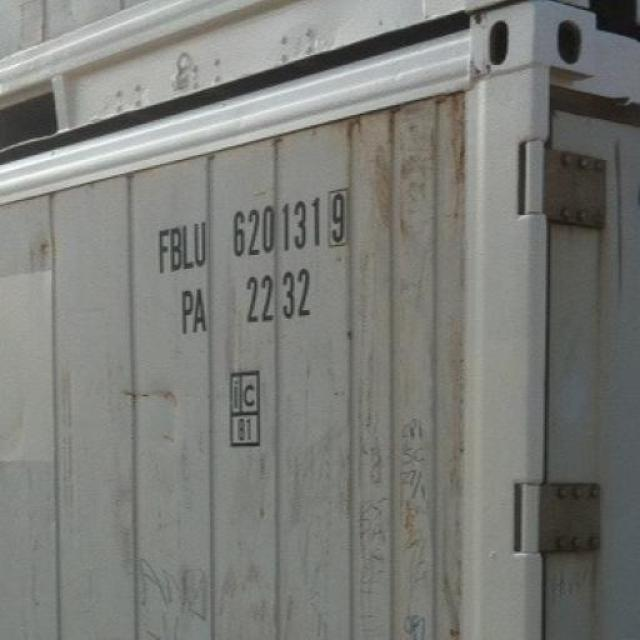ISO: (178, 288, 347, 329)
container_number: (149, 214, 355, 266)
